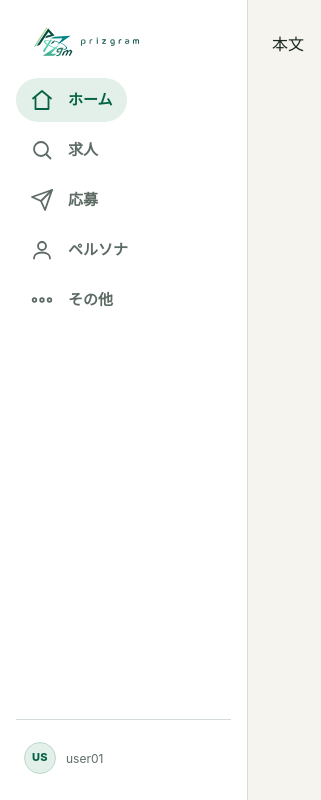
Test case: AppShell › groups the account identity and logout in an accessible menu
This screenshot has width=321, height=800.
Expected: the text "本文" is shown, [272, 34, 304, 54]
Expected: the text "US" is shown, [24, 742, 56, 774]
Step 1. Click the heading named "アカウント user01" → (64, 758), box [24, 742, 103, 774]
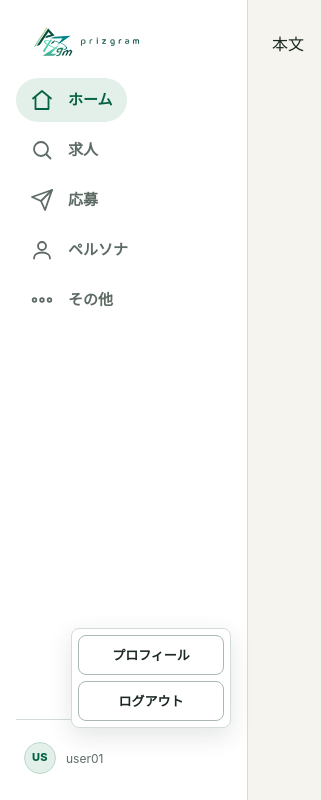
Expected: the button "ログアウト" is shown, [78, 681, 224, 721]
